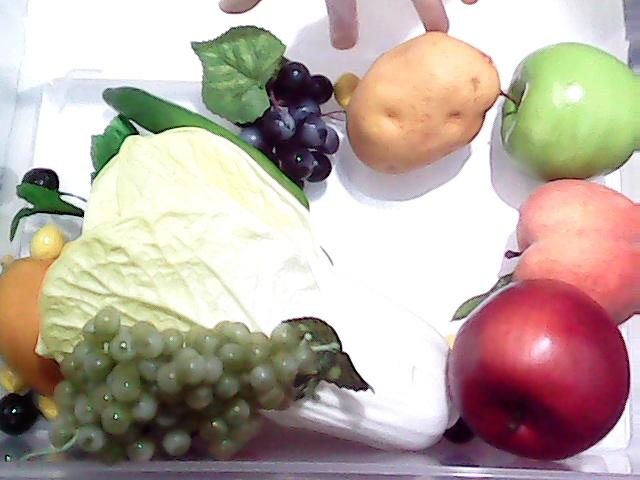apple: (443, 278, 633, 460), (489, 40, 639, 186)
grape: (43, 312, 341, 464), (225, 57, 341, 195)
lemon: (0, 255, 64, 398)
napa cabbage: (29, 118, 478, 450)
peach: (504, 176, 640, 328)
pepper: (96, 80, 324, 204)
potato: (343, 30, 501, 174)
